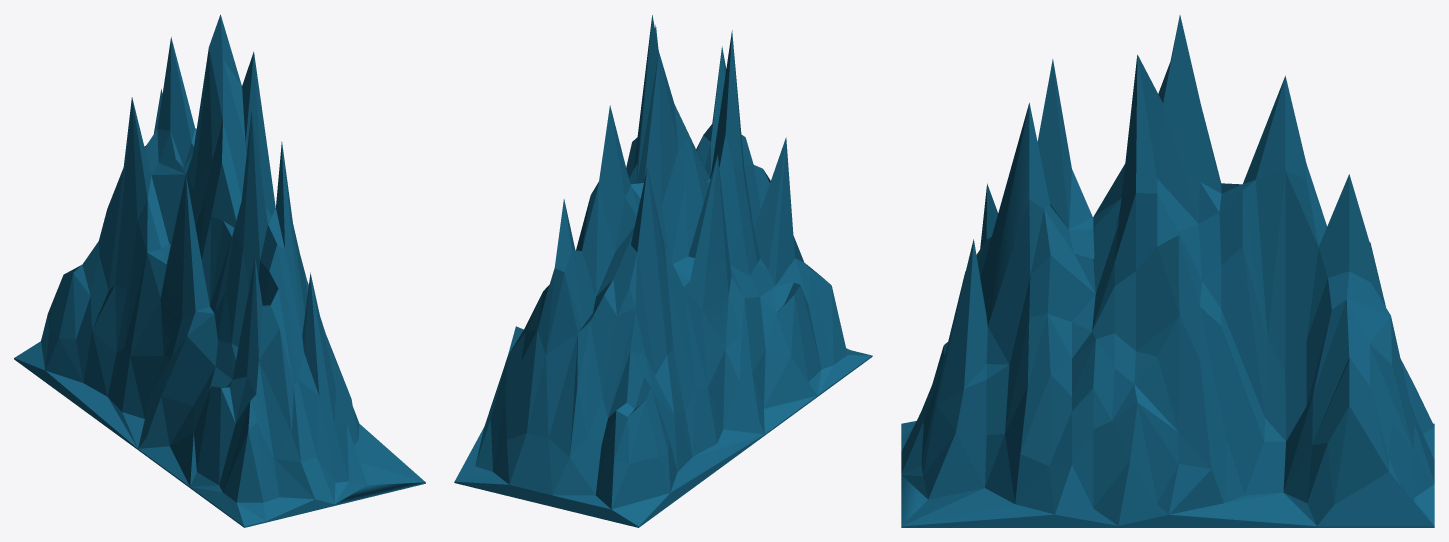
File: Mountain02.fbx
3 views of the same model, side by side, from view 1: azimuth 30°, elevation 25°; view 2: azimuth 150°, elevation 25°; view 3: azimuth 270°, elevation 25° (orthographic). The views are drawn at different scales.
Visible parts, largest first — view 1: Plane.003; view 2: Plane.003; view 3: Plane.003.
Boxes of the visible parts, x1=… form: Plane.003: x1=14, y1=14, x2=425, y2=527; Plane.003: x1=454, y1=15, x2=872, y2=527; Plane.003: x1=901, y1=15, x2=1434, y2=527.
Bounding box in the file's own units: 175 × 370 × 384.
